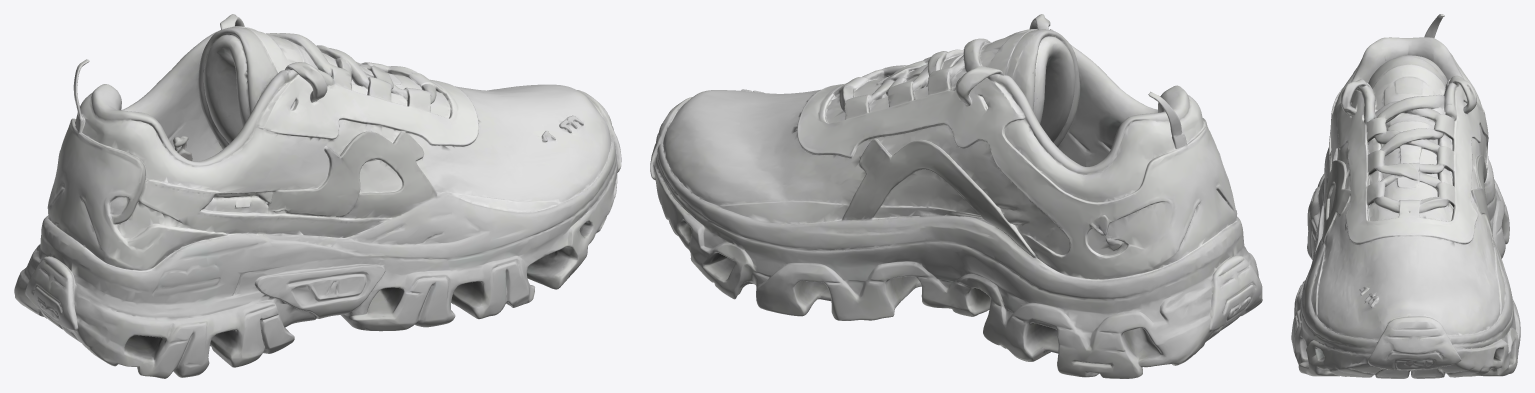
File: shelf_sneaker_athletic_v01.optimized.glb
3 renders of one model, left to right at view 1: azimuth 30°, elevation 25°; view 2: azimuth 150°, elevation 25°; view 3: azimuth 270°, elevation 25°, orthographic. The views are drawn at different scales.
Parts seen in each view (by area): view 1: tripo_node_f0619ef6-d46f-43dd-9380-d426ad830733; view 2: tripo_node_f0619ef6-d46f-43dd-9380-d426ad830733; view 3: tripo_node_f0619ef6-d46f-43dd-9380-d426ad830733.
Boxes of the visible parts, x1=… form: tripo_node_f0619ef6-d46f-43dd-9380-d426ad830733: x1=14, y1=14, x2=621, y2=378; tripo_node_f0619ef6-d46f-43dd-9380-d426ad830733: x1=650, y1=14, x2=1262, y2=378; tripo_node_f0619ef6-d46f-43dd-9380-d426ad830733: x1=1291, y1=14, x2=1520, y2=378.
Size of the model in its own units: 1 by 0.4718 by 0.438.
Materials: 1 (1 with a texture image).
